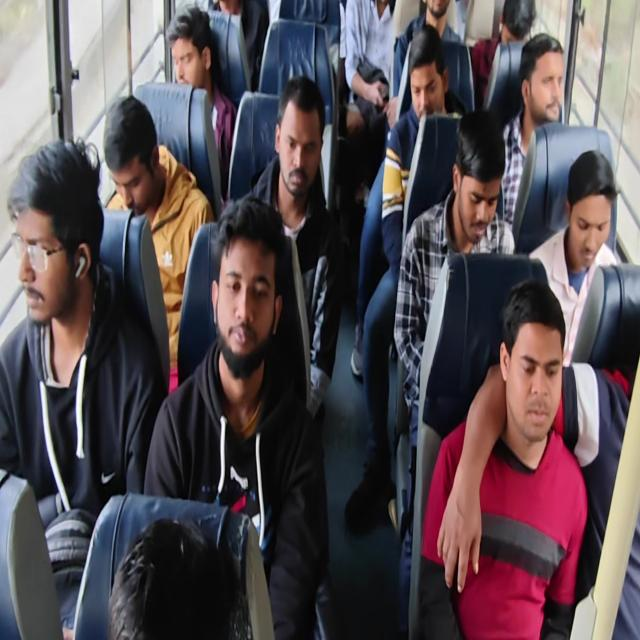person: (1, 1, 638, 638), (143, 195, 332, 638), (0, 136, 166, 638), (344, 24, 468, 530), (418, 278, 589, 638), (392, 108, 516, 532), (242, 75, 342, 420), (102, 94, 215, 392), (380, 24, 467, 267), (528, 148, 620, 368), (107, 516, 251, 638), (166, 4, 237, 202), (498, 32, 564, 230), (342, 0, 396, 204), (390, 0, 467, 124), (470, 0, 536, 110), (206, 0, 268, 99)
